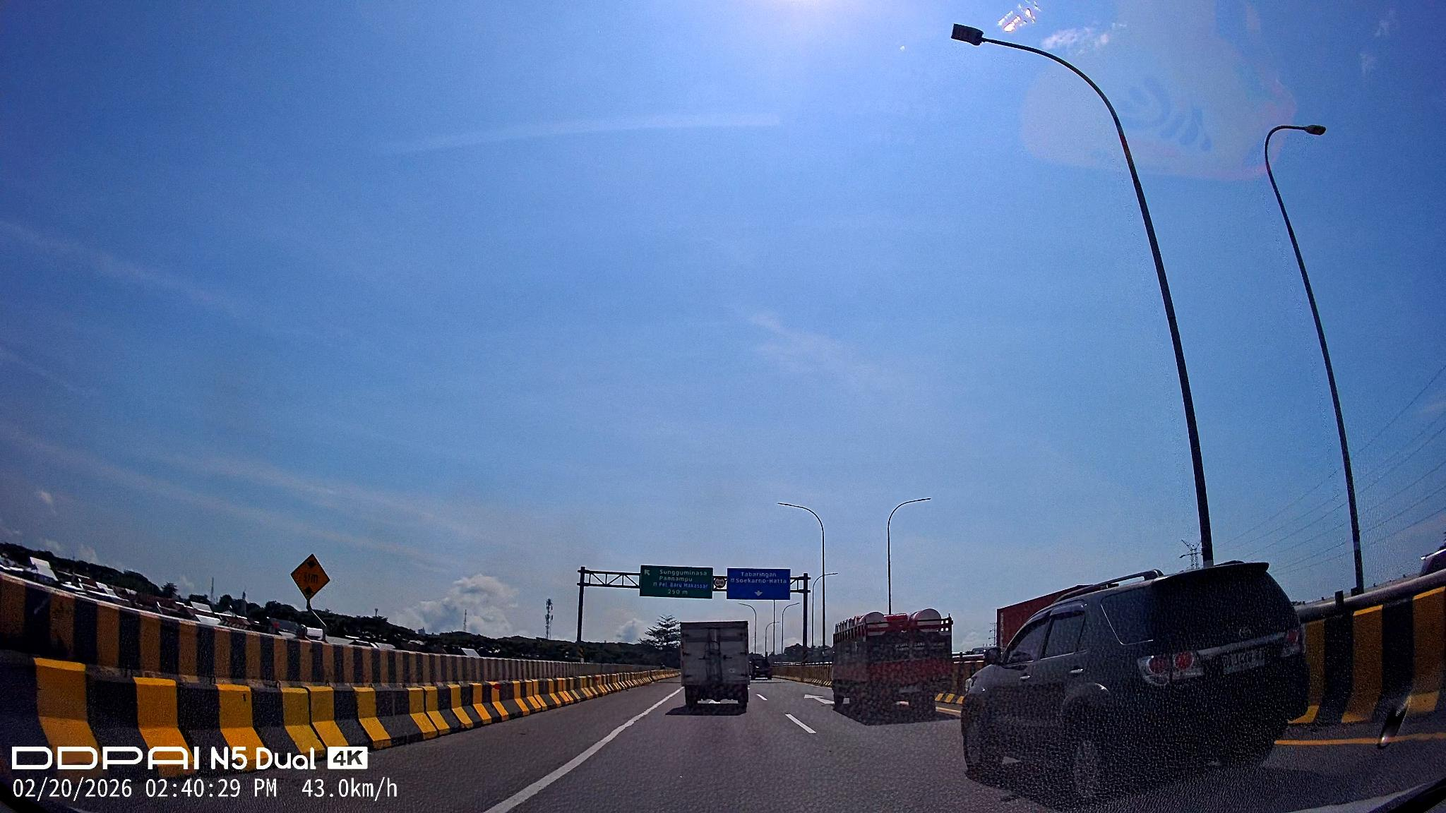rambu_teks: (640, 565, 713, 600), (726, 568, 791, 600)
